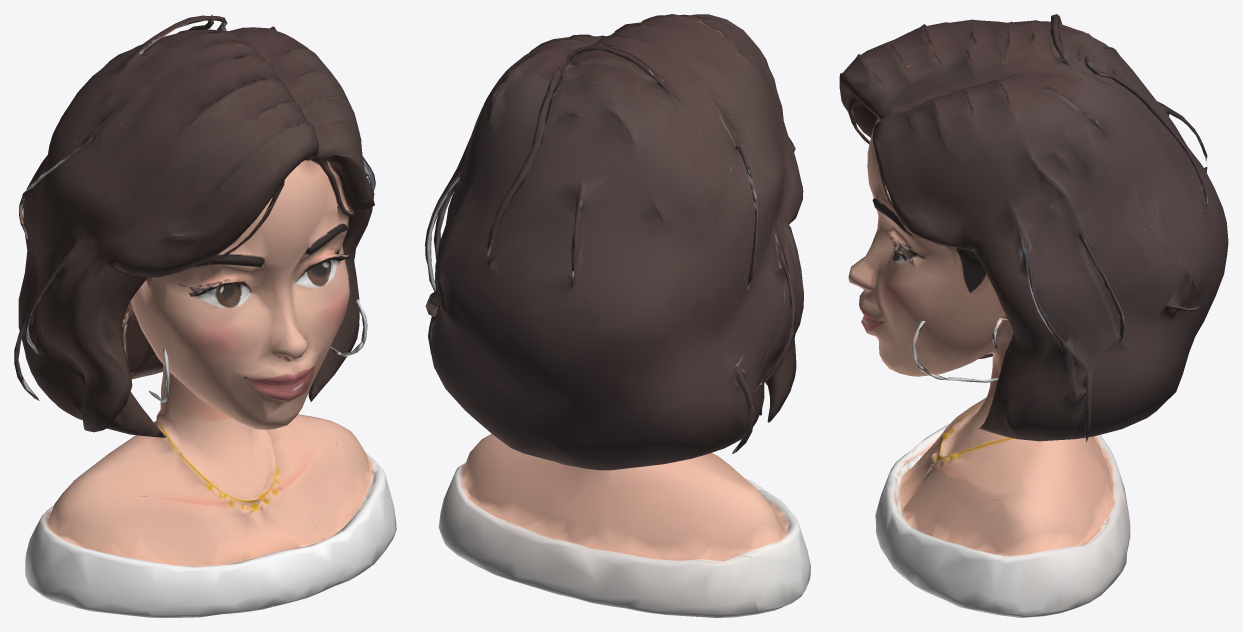
Rendered from ozge.glb.
3 renders of one model, left to right at view 1: azimuth 30°, elevation 25°; view 2: azimuth 150°, elevation 25°; view 3: azimuth 270°, elevation 25°, orthographic. The views are drawn at different scales.
Visible parts, largest first — view 1: Object_4; view 2: Object_4; view 3: Object_4.
Boxes of the visible parts, left/top/right/bottom form: Object_4: left=14, top=14, right=396, bottom=617; Object_4: left=425, top=14, right=810, bottom=617; Object_4: left=839, top=14, right=1228, bottom=617.
Bounding box in the file's own units: 1.34 × 1.91 × 1.31.
Materials: 1 (1 with a texture image).
